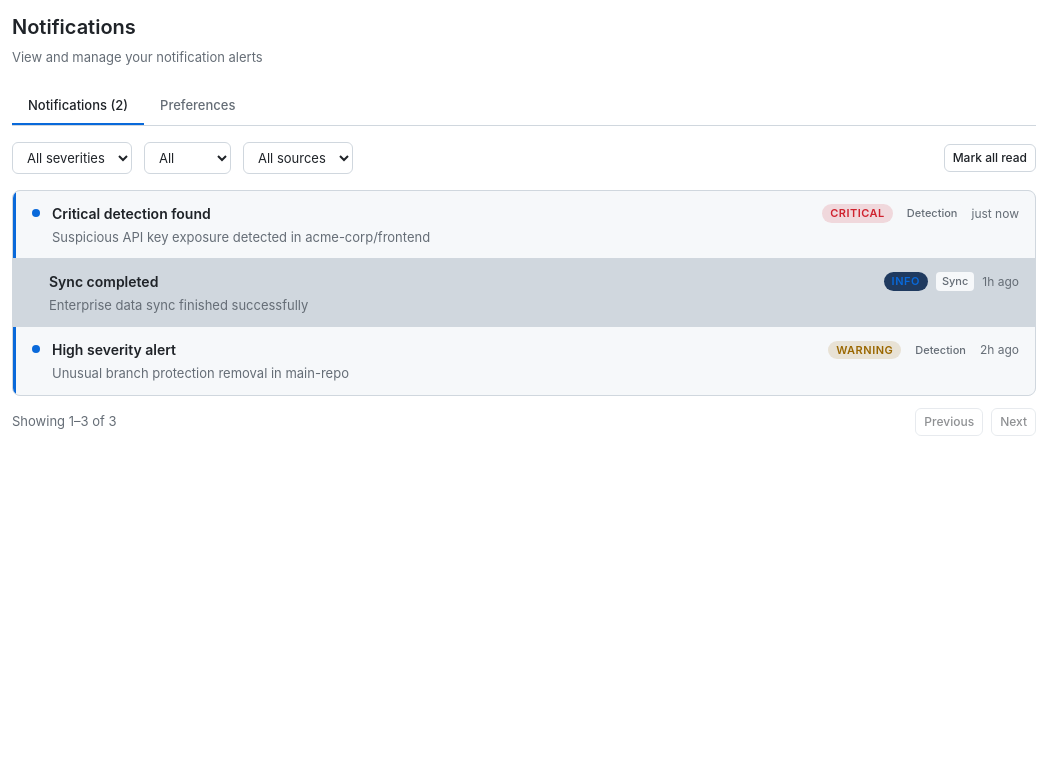
Test: NotificationsPage › switches to preferences tab
The width and height of the screenshot is (1048, 780).
Expected: the text "Critical detection found" is shown, [52, 203, 211, 224]
Click the button "Preferences": (198, 106) [144, 88, 252, 125]
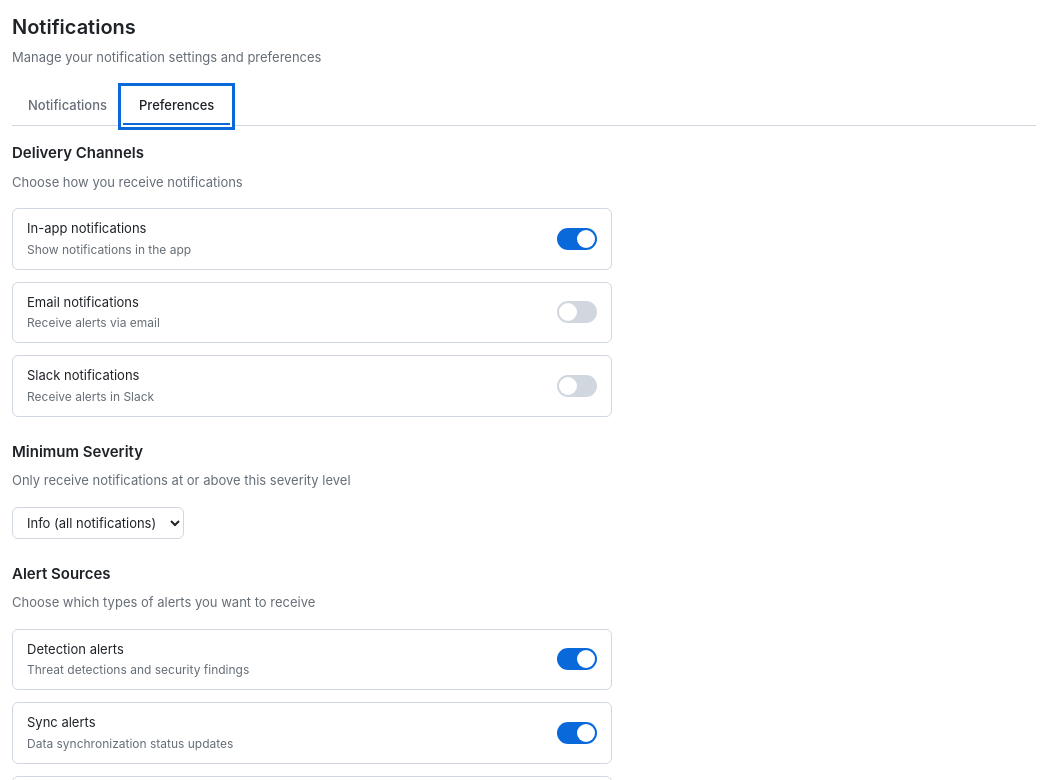
Result: the text "Delivery Channels" is shown at [12, 143, 144, 162]
